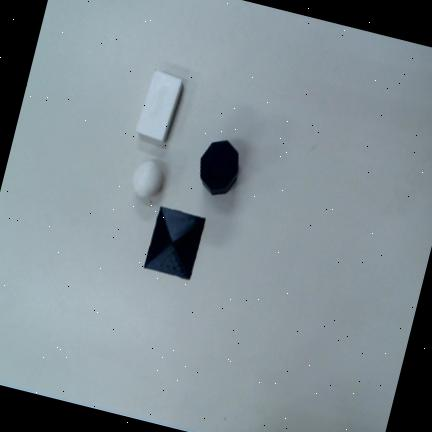Esfera: (132, 159, 163, 199)
Paralelepipedo: (136, 69, 183, 143)
Piramide: (144, 206, 205, 280)
Prisma_hexagonal: (199, 139, 238, 195)
